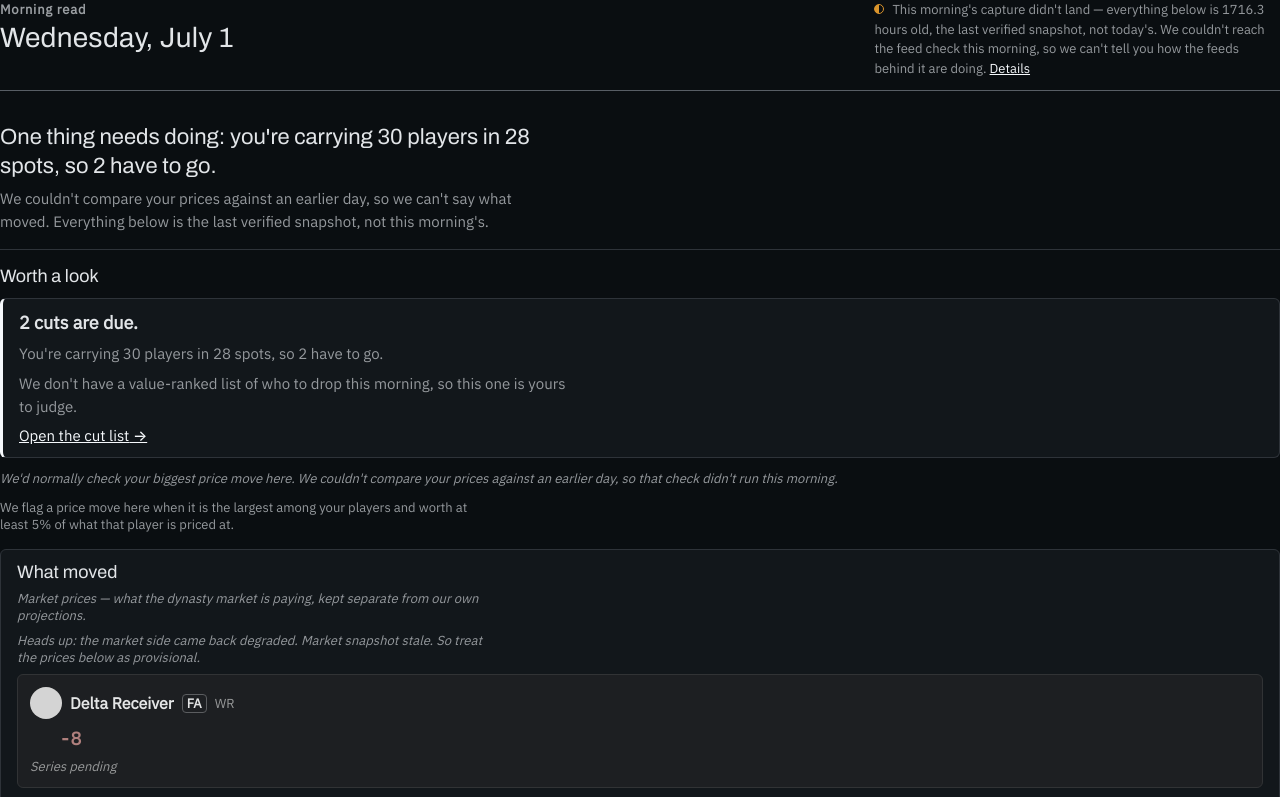
DailyWhatChanged › keeps degraded 200 responses in view and surfaces freshness caveats
This screenshot has width=1280, height=797.
Expected: the text with test id "wc-market-degraded" shows "Market snapshot stale", x1=17 y1=632 x2=482 y2=666
Click the button with test id "wc-health-sheet-toggle". click: (1010, 68)
box: x1=990 y1=58 x2=1030 y2=78
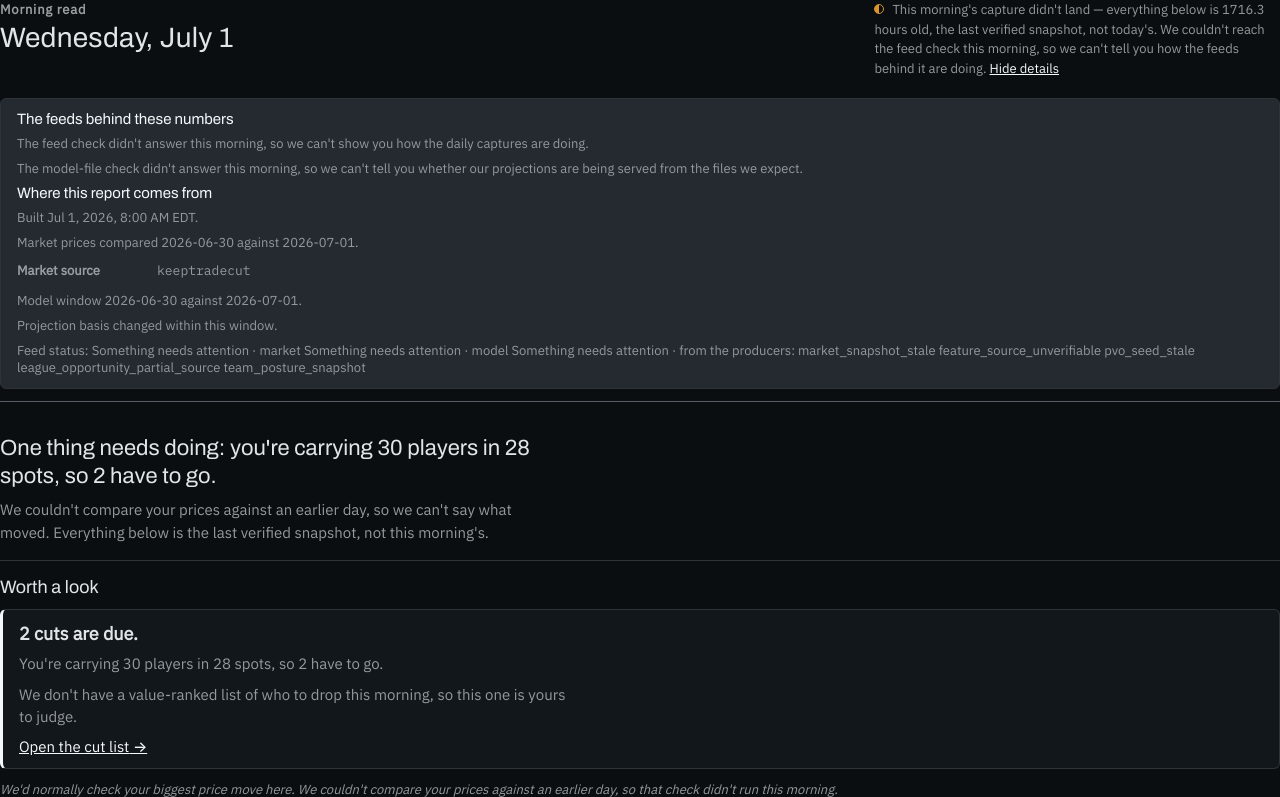
Expected: the text with test id "wc-provenance" shows "Feed status: Something needs attention", x1=17 y1=342 x2=1263 y2=376
Expected: the text with test id "wc-provenance" shows "market_snapshot_stale", x1=17 y1=342 x2=1195 y2=376
Expected: the text with test id "wc-provenance" shows "feature_source_unverifiable", x1=17 y1=342 x2=1195 y2=376
